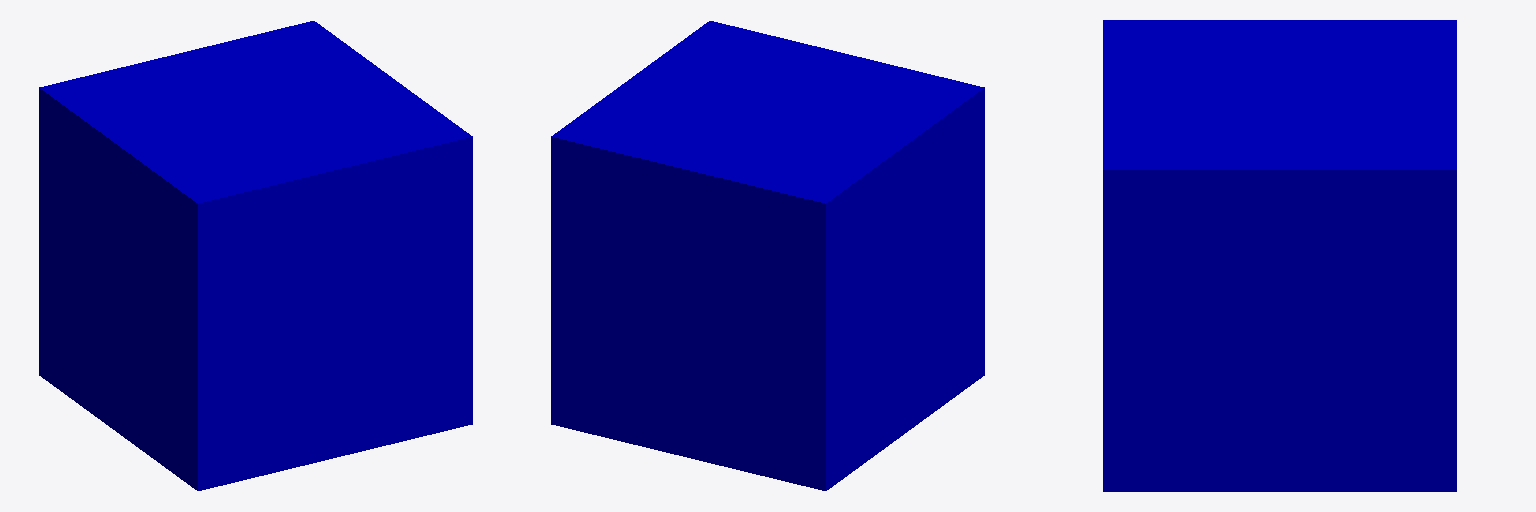
URDF robot description (cso_visualization):
<?xml version="1.0"?>
<robot name="cso_visualization">

    <material name="blue">
        <color rgba="0 0 0.8 1"/>
    </material>

    <link name="J2K">
        <visual>
          <geometry>
           <mesh filename="package://rospace_simulator/res/meshes/earth-mesh.stl" scale="1 1 1">
            </mesh>
          </geometry>
          <material name="texture">
		<texture filename="package://rospace_simulator/res/meshes/1_earth_8k.jpg"/>
	  </material>
        </visual>
    </link>

    <link name="chaser">
        <visual>
          <geometry>
            <mesh filename="package://rospace_simulator/res/meshes/cso-mesh.stl" scale="1 1 1">
            </mesh>
          </geometry>
          <origin rpy="0 0 0" xyz="0 0 0"/>
        </visual>
    </link>

    <link name="target">
        <visual>
            <geometry>
                <box size="100 100 100"/>
            </geometry>
            <material name="blue" />
            <origin rpy="0 1.57075 0" xyz="0 0 0"/>
        </visual>
    </link>

    <joint name="target2J2K" type="fixed">
        <parent link="J2K"/>
        <child link="target"/>
        <origin xyz="7000000 0 0 "/>
    </joint>

    <joint name="chaser2J2K" type="fixed">
        <parent link="J2K"/>
        <child link="chaser"/>
        <origin xyz="0 0 0 "/>
    </joint>
 </robot>

--- Facts derived from the render (not from the file) ---
The picture shows the robot from 3 angles, left to right: view 1: azimuth 30°, elevation 25°; view 2: azimuth 150°, elevation 25°; view 3: azimuth 270°, elevation 25°; orthographic projection.
Robot: cso_visualization — 3 links, 2 joints (2 fixed); root link J2K; default pose: all joints at 0.
Visible links, largest first — view 1: target; view 2: target; view 3: target.
Link boxes in pixels (x1,y1,x2,y2): target: (39, 21, 472, 490); target: (551, 21, 984, 490); target: (1103, 20, 1456, 491).
Size in the robot's own frame: 100 by 100 by 100 metres.
Meshes: 2 distinct files referenced, 0 mesh visuals loaded (none loaded); not drawn: 2 (reference not matched to a file when rendering).